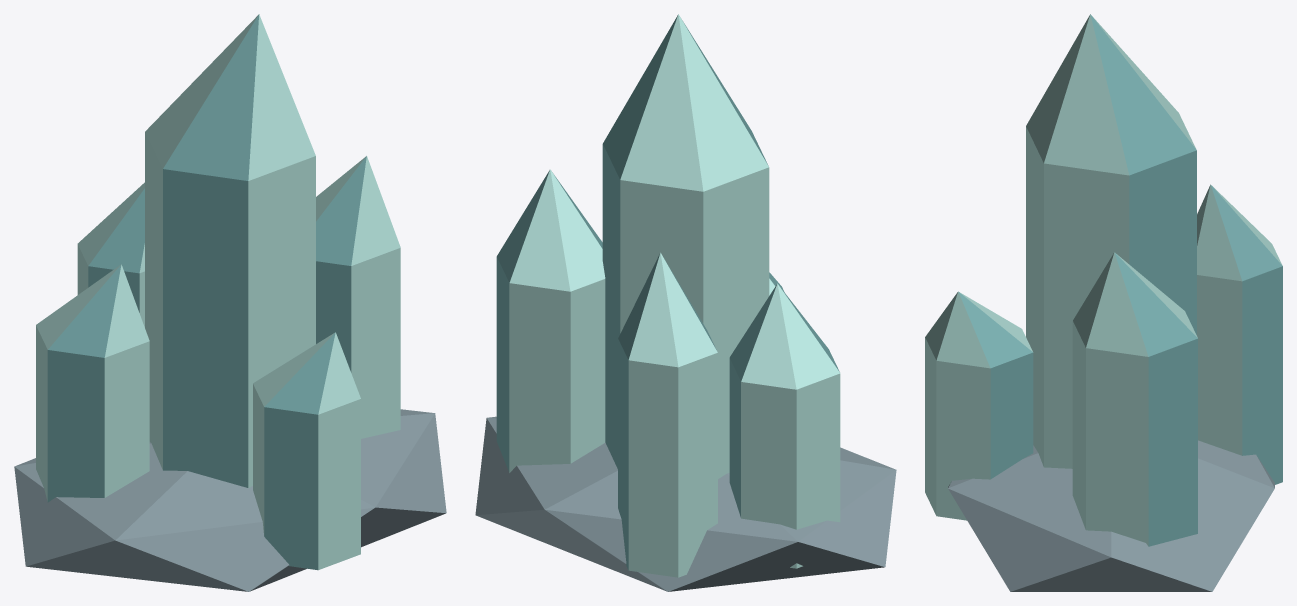
Rendered from world_crystals.fbx.
3 views of the same model, side by side, from view 1: azimuth 30°, elevation 25°; view 2: azimuth 150°, elevation 25°; view 3: azimuth 270°, elevation 25° (orthographic). The views are drawn at different scales.
Visible parts, largest first — view 1: world_crystals_mesh; view 2: world_crystals_mesh; view 3: world_crystals_mesh.
Boxes of the visible parts, x1=… form: world_crystals_mesh: x1=14, y1=14, x2=446, y2=591; world_crystals_mesh: x1=475, y1=14, x2=896, y2=591; world_crystals_mesh: x1=925, y1=14, x2=1282, y2=591.
Bounding box in the file's own units: 0.7871 × 0.99 × 0.5954.
